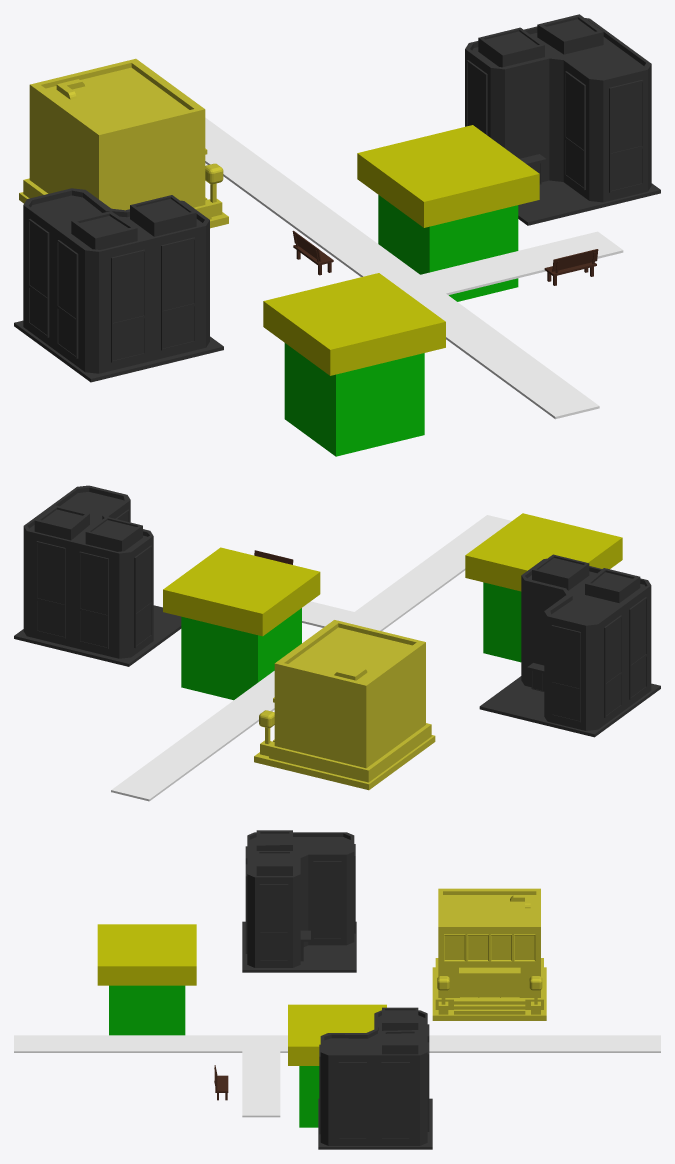
File: Debug.fbx
The picture shows the model from 3 angles, top to bottom: view 1: azimuth 30°, elevation 25°; view 2: azimuth 150°, elevation 25°; view 3: azimuth 270°, elevation 25°; orthographic projection. The views are drawn at different scales.
Visible parts, largest first — view 1: Glass building (×2), Cube.001 (×2), Store(Clone), Height Road straight(Clone) (×18), Cube (×2), bench_2_v_2(Clone) (×2); view 2: Glass building (×2), Store(Clone), Cube.001 (×2), Height Road straight(Clone) (×14), Cube (×2); view 3: Glass building (×2), Store(Clone), Height Road straight(Clone) (×17), Cube.001 (×2), Cube (×2).
Boxes of the visible parts, box(x1,y1,x2,y2) form: Glass building (×2): box(14, 14, 660, 382); Cube.001 (×2): box(263, 125, 539, 375); Store(Clone): box(19, 58, 228, 228); Height Road straight(Clone) (×18): box(205, 143, 623, 419); Cube (×2): box(284, 195, 518, 456); bench_2_v_2(Clone) (×2): box(292, 230, 598, 285); Glass building (×2): box(14, 485, 660, 737); Store(Clone): box(254, 620, 435, 790); Cube.001 (×2): box(163, 513, 622, 636); Height Road straight(Clone) (×14): box(111, 515, 511, 801); Cube (×2): box(181, 582, 521, 700); Glass building (×2): box(242, 830, 432, 1149); Store(Clone): box(432, 888, 546, 1020); Height Road straight(Clone) (×17): box(14, 1035, 660, 1117); Cube.001 (×2): box(97, 924, 386, 1065); Cube (×2): box(109, 985, 319, 1127).
Size of what is drawn, in the model's own units: 14 by 3.9 by 17.
